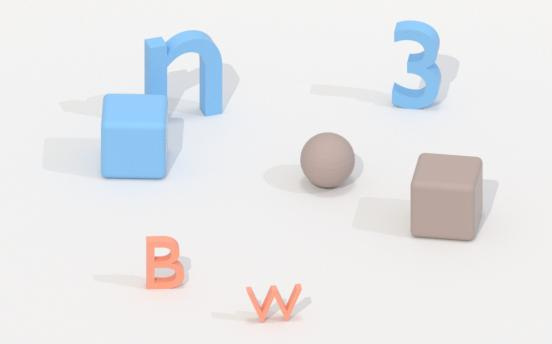3: (386, 20, 451, 111)
b: (142, 233, 189, 293)
cau: (298, 128, 361, 190)
hop: (405, 150, 492, 245), (96, 90, 170, 182)
n: (137, 29, 232, 120)
w: (242, 282, 308, 326)
